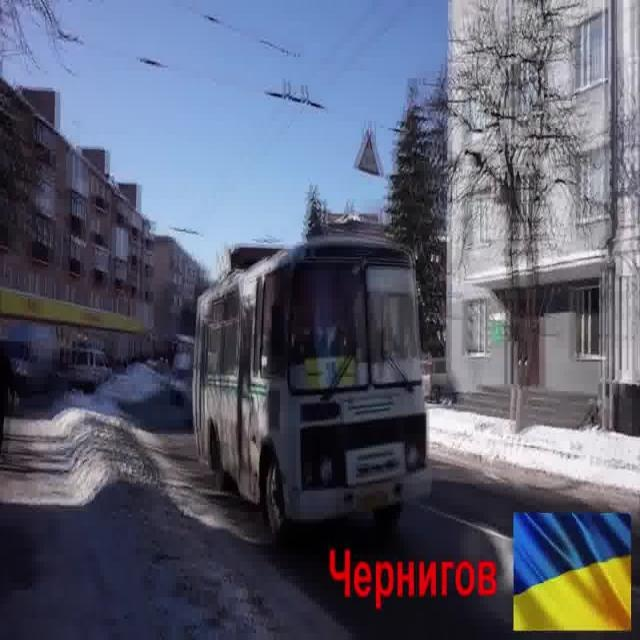Bus: (191, 238, 433, 550)
